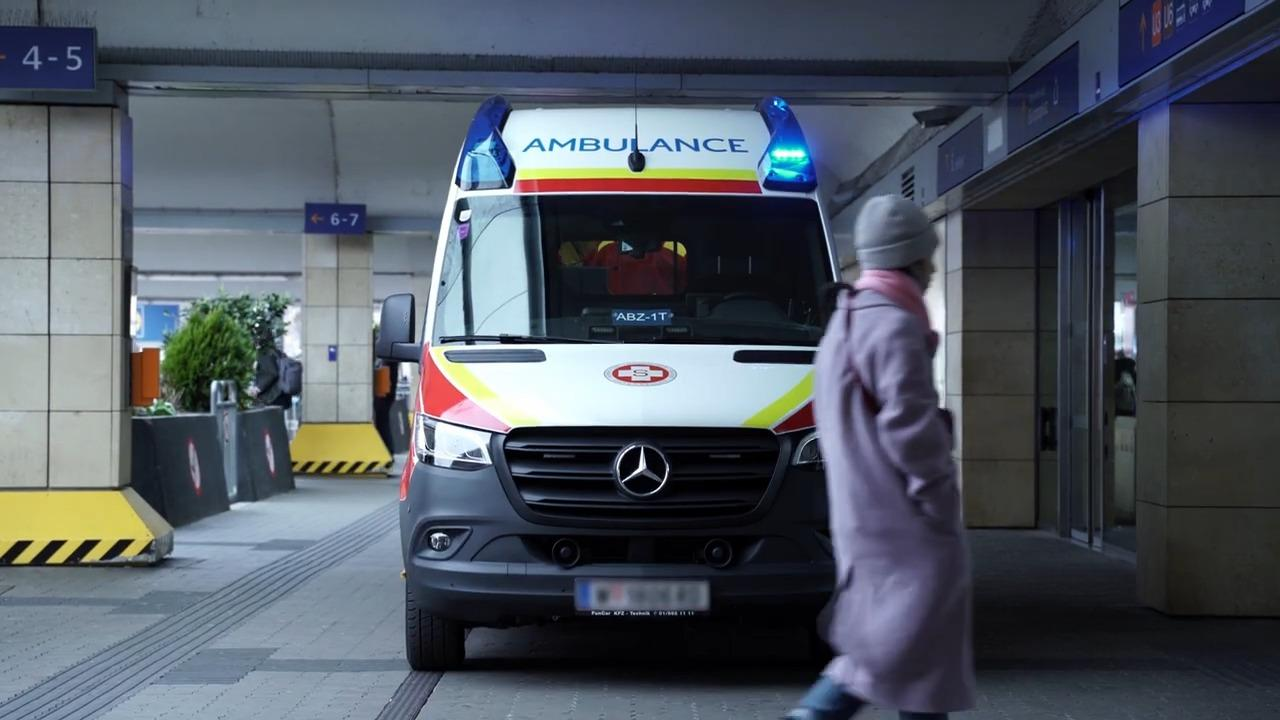car: (378, 91, 850, 672)
